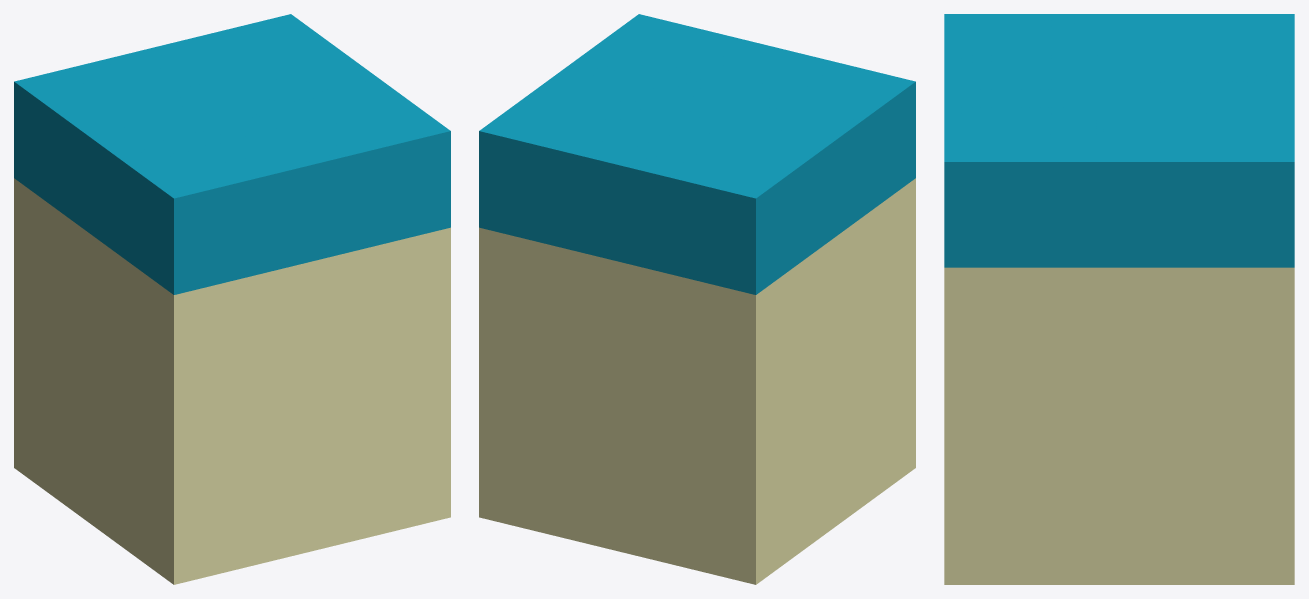
Rendered from entotsu.obj.
The picture shows the model from 3 angles, left to right: view 1: azimuth 30°, elevation 25°; view 2: azimuth 150°, elevation 25°; view 3: azimuth 270°, elevation 25°; orthographic projection. The views are drawn at different scales.
Visible parts, largest first — view 1: entotsu; view 2: entotsu; view 3: entotsu.
Part boxes in pixels (bbox=[...]): entotsu: bbox=[14, 14, 450, 584]; entotsu: bbox=[479, 14, 915, 584]; entotsu: bbox=[944, 14, 1294, 584].
Bounding box in the file's own units: 3 × 4 × 3.
1 material, 1 textured.
